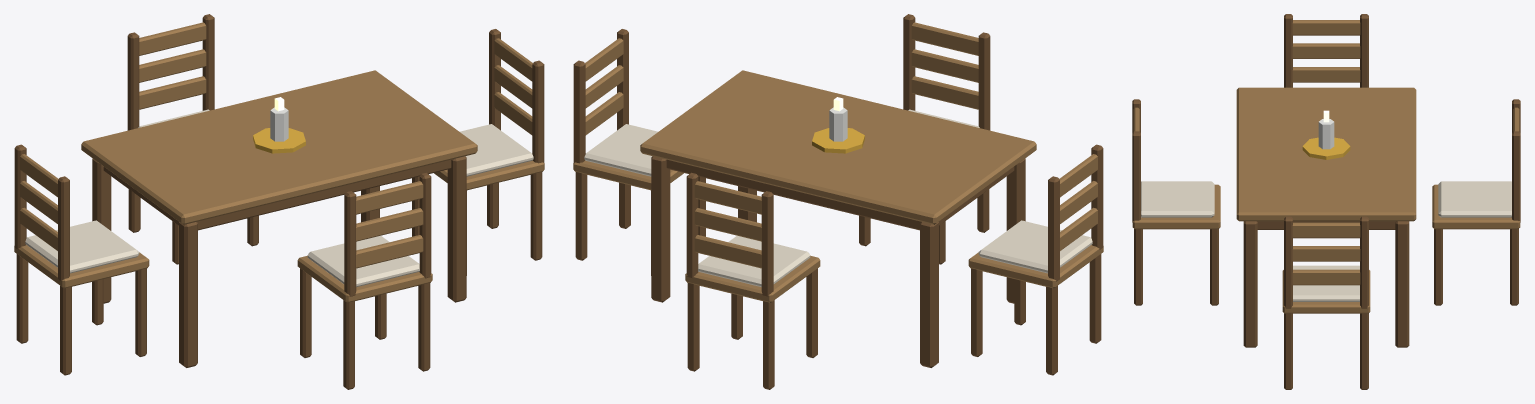
Rendered from dining_set.glb.
3 views of the same model, side by side, from view 1: azimuth 30°, elevation 25°; view 2: azimuth 150°, elevation 25°; view 3: azimuth 270°, elevation 25° (orthographic). The views are drawn at different scales.
Parts seen in each view (by area): view 1: dining_set; view 2: dining_set; view 3: dining_set.
Part boxes in pixels (bbox=[...]): dining_set: bbox=[14, 14, 544, 389]; dining_set: bbox=[573, 14, 1103, 389]; dining_set: bbox=[1132, 14, 1520, 389].
Size of the model in its own units: 2.45 by 0.975 by 1.94.
